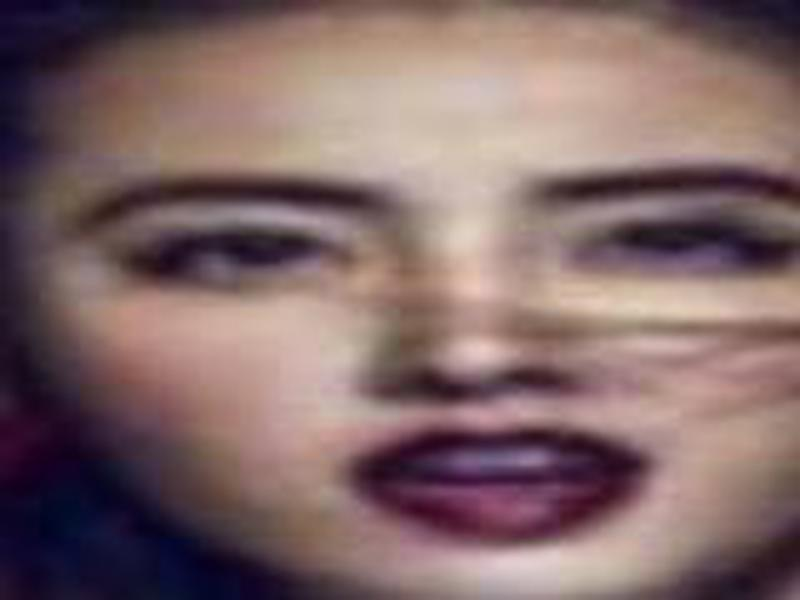without_mask: (23, 23, 800, 600)
